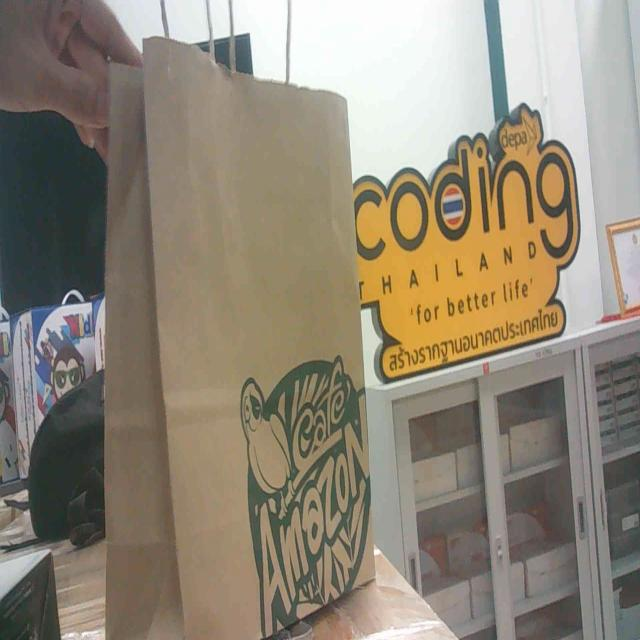bag: (103, 34, 380, 640)
